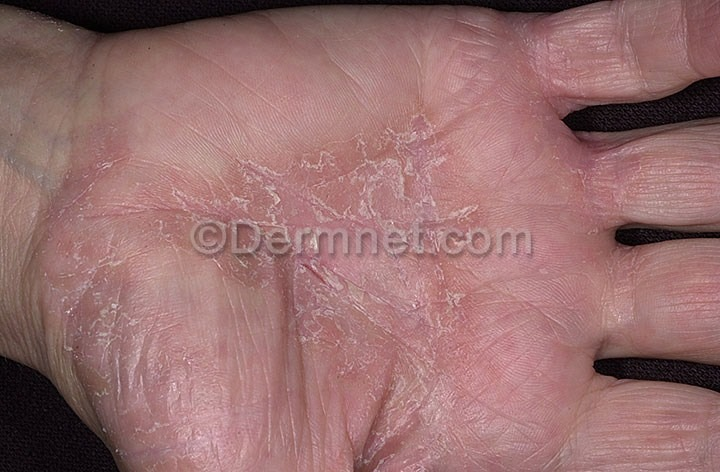Psoriasis: (180, 115, 529, 460), (39, 129, 197, 453)
